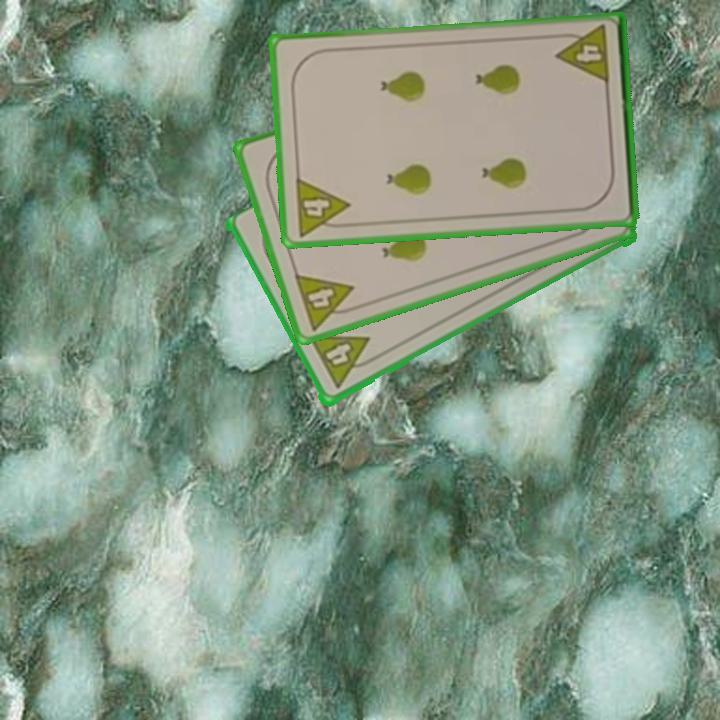4p: (290, 270, 363, 334), (306, 331, 381, 393), (291, 174, 353, 239), (552, 22, 612, 87)
